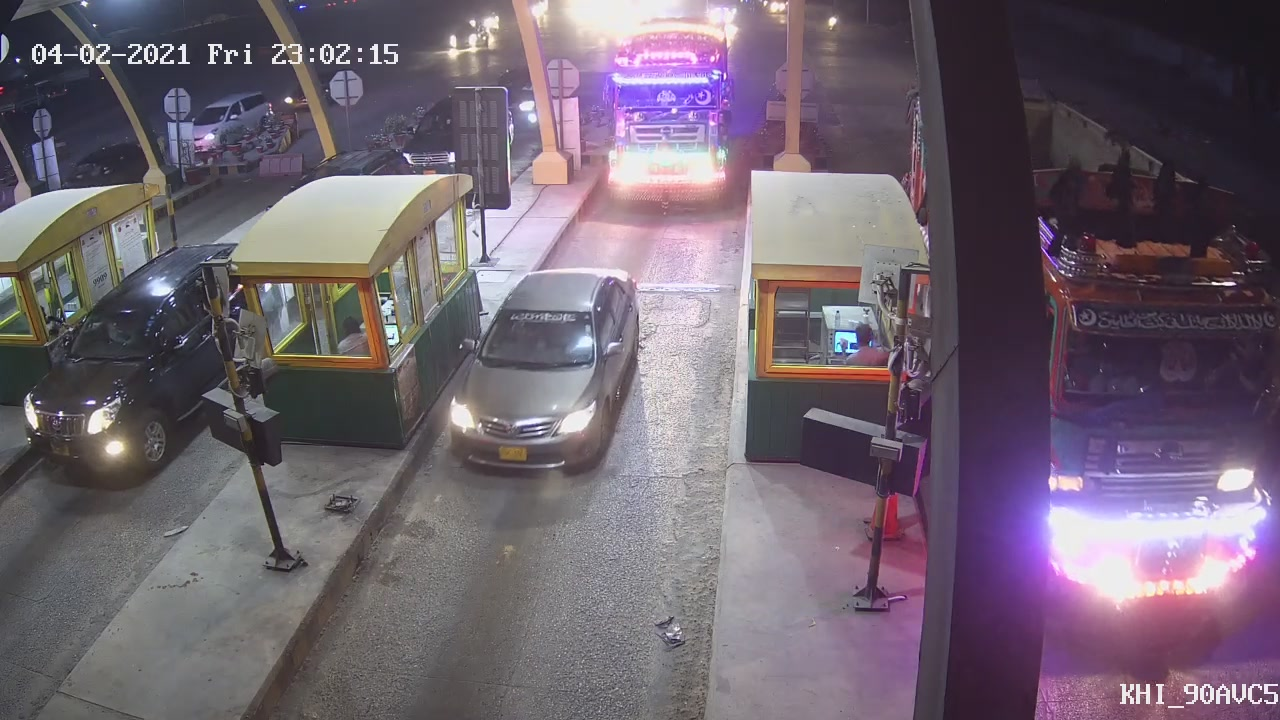F1: (441, 261, 645, 478)
F5: (604, 25, 736, 213)
